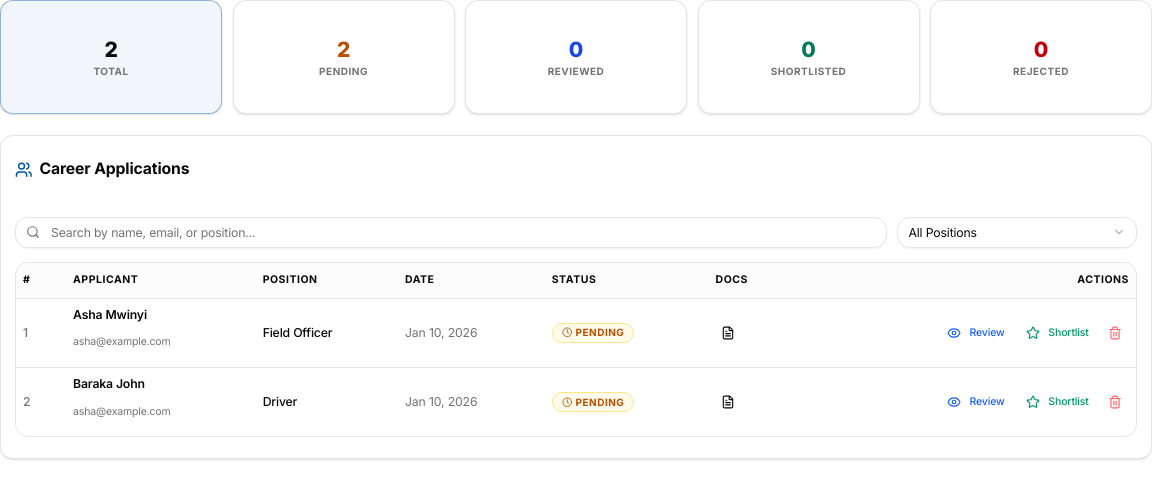
HRApplicationsSubtab › filters by position via the position dropdown
Click the dropdown: point(1017, 232) [897, 216, 1137, 248]
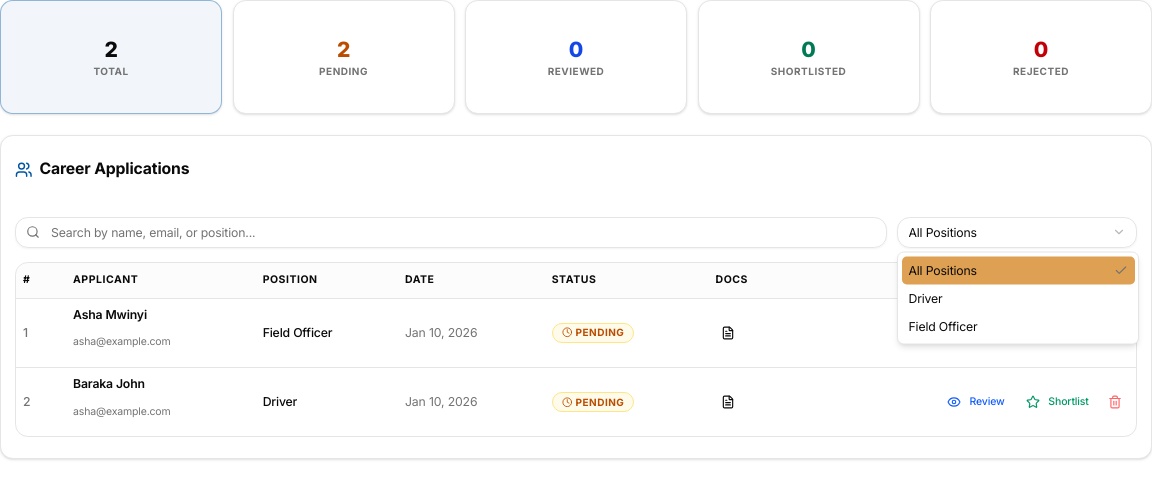
Click the option "Driver": point(926, 298) [908, 290, 942, 305]
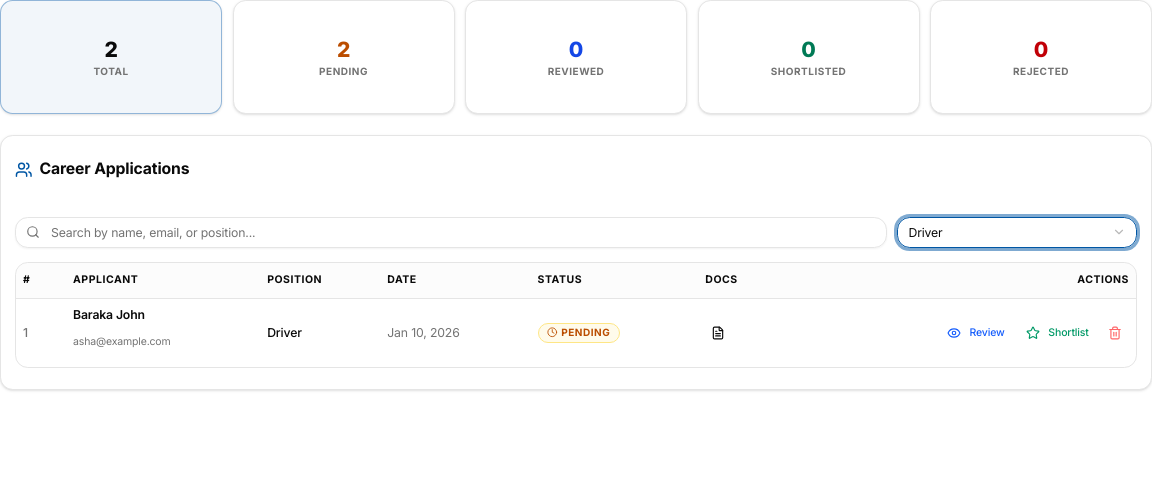
expect the text "Baraka John" is shown: met, box [73, 306, 145, 322]
expect the text "Asha Mwinyi" is gone: met
